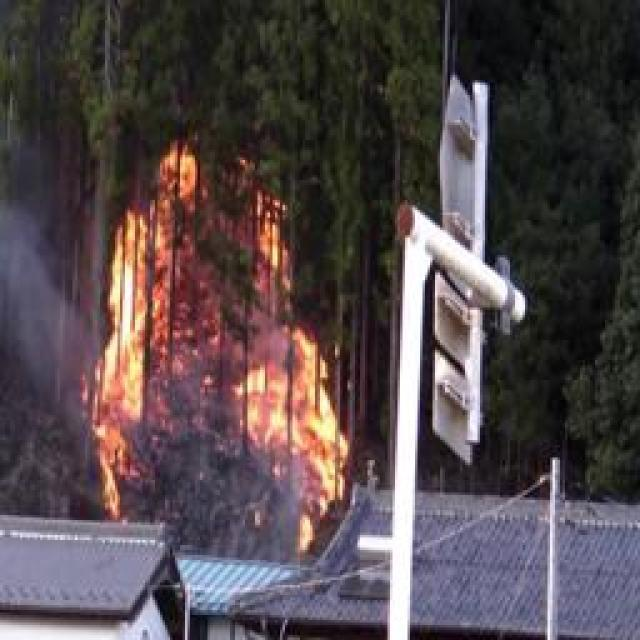Fire: (69, 113, 362, 556)
